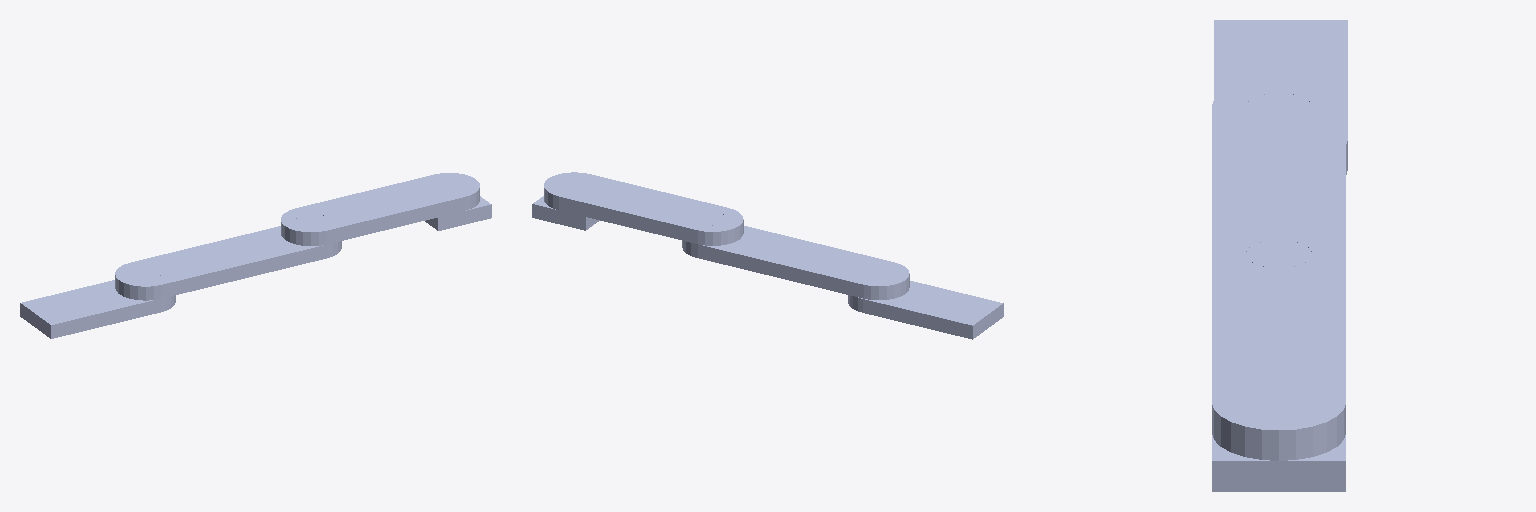
The robot description file, URDF, robot "urdf_ex":
<?xml version="1.0" encoding="utf-8"?>
<!-- This URDF was automatically created by SolidWorks to URDF Exporter! Originally created by [author] ([email redacted]) 
     Commit Version: 1.6.0-4-g7f85cfe  Build Version: 1.6.7995.38578
     For more information, please see http://wiki.ros.org/sw_urdf_exporter -->
<robot
  name="urdf_ex">
  <link
    name="base_link">
    <inertial>
      <origin
        xyz="-0.0307627616177958 0.000549238552584501 -0.00425853947056134"
        rpy="0 0 0" />
      <mass
        value="0.0423703289501895" />
      <inertia
        ixx="5.7445737473777E-06"
        ixy="5.7331555415411E-08"
        ixz="-9.66440659026013E-07"
        iyy="3.57525225953111E-05"
        iyz="1.72548380186777E-08"
        izz="4.02091930018452E-05" />
    </inertial>
    <visual>
      <origin
        xyz="0 0 0"
        rpy="0 0 0" />
      <geometry>
        <mesh
          filename="package://urdf_ex/meshes/base_link.STL" />
      </geometry>
      <material
        name="">
        <color
          rgba="0.792156862745098 0.819607843137255 0.933333333333333 1" />
      </material>
    </visual>
    <collision>
      <origin
        xyz="0 0 0"
        rpy="0 0 0" />
      <geometry>
        <mesh
          filename="package://urdf_ex/meshes/base_link.STL" />
      </geometry>
    </collision>
  </link>
  <link
    name="link1">
    <inertial>
      <origin
        xyz="0.0686137321462363 -4.33680868994202E-19 0.00550314814927754"
        rpy="0 0 0" />
      <mass
        value="0.0624387202477187" />
      <inertia
        ixx="8.72495874801279E-06"
        ixy="-3.79626509091789E-22"
        ixz="-1.76140121217567E-06"
        iyy="0.00012636124611967"
        iyz="1.16596805275555E-22"
        izz="0.000133448854730092" />
    </inertial>
    <visual>
      <origin
        xyz="0 0 0"
        rpy="0 0 0" />
      <geometry>
        <mesh
          filename="package://urdf_ex/meshes/link1.STL" />
      </geometry>
      <material
        name="">
        <color
          rgba="0.792156862745098 0.819607843137255 0.933333333333333 1" />
      </material>
    </visual>
    <collision>
      <origin
        xyz="0 0 0"
        rpy="0 0 0" />
      <geometry>
        <mesh
          filename="package://urdf_ex/meshes/link1.STL" />
      </geometry>
    </collision>
  </link>
  <joint
    name="joint1"
    type="continuous">
    <origin
      xyz="0 0 0"
      rpy="0 0 0" />
    <parent
      link="base_link" />
    <child
      link="link1" />
    <axis
      xyz="0 0 -1" />
  </joint>
  <link
    name="link2">
    <inertial>
      <origin
        xyz="0.0580112291549358 3.25260651745651E-19 0.00441983809309461"
        rpy="0 0 0" />
      <mass
        value="0.0541502745388295" />
      <inertia
        ixx="7.54834281403493E-06"
        ixy="-1.23878136683066E-22"
        ixz="1.44351566352889E-06"
        iyy="8.25281653332867E-05"
        iyz="1.61893646668828E-22"
        izz="8.85821376886491E-05" />
    </inertial>
    <visual>
      <origin
        xyz="0 0 0"
        rpy="0 0 0" />
      <geometry>
        <mesh
          filename="package://urdf_ex/meshes/link2.STL" />
      </geometry>
      <material
        name="">
        <color
          rgba="0.792156862745098 0.819607843137255 0.933333333333333 1" />
      </material>
    </visual>
    <collision>
      <origin
        xyz="0 0 0"
        rpy="0 0 0" />
      <geometry>
        <mesh
          filename="package://urdf_ex/meshes/link2.STL" />
      </geometry>
    </collision>
  </link>
  <joint
    name="joint2"
    type="continuous">
    <origin
      xyz="0.124680874083399 0 0.01"
      rpy="0 0 0" />
    <parent
      link="link1" />
    <child
      link="link2" />
    <axis
      xyz="0 0 -1" />
  </joint>
  <link
    name="ef_link">
    <inertial>
      <origin
        xyz="0 3.79470760369927E-18 -0.005"
        rpy="0 0 0" />
      <mass
        value="0.0128584073464102" />
      <inertia
        ixx="2.161946911547E-06"
        ixy="5.80499913184947E-23"
        ixz="7.53746385330028E-24"
        iyy="2.161946911547E-06"
        iyz="6.3048615084558E-23"
        izz="4.10958703398717E-06" />
    </inertial>
    <visual>
      <origin
        xyz="0 0 0"
        rpy="0 0 0" />
      <geometry>
        <mesh
          filename="package://urdf_ex/meshes/ef_link.STL" />
      </geometry>
      <material
        name="">
        <color
          rgba="0.792156862745098 0.819607843137255 0.933333333333333 1" />
      </material>
    </visual>
    <collision>
      <origin
        xyz="0 0 0"
        rpy="0 0 0" />
      <geometry>
        <mesh
          filename="package://urdf_ex/meshes/ef_link.STL" />
      </geometry>
    </collision>
  </link>
  <joint
    name="joint3"
    type="continuous">
    <origin
      xyz="0.103959759811176 0 0"
      rpy="0 0 0" />
    <parent
      link="link2" />
    <child
      link="ef_link" />
    <axis
      xyz="0 0 -1" />
  </joint>
</robot>

--- Render facts (derived) ---
Views: 3 orthographic renders of the robot side by side, from view 1: azimuth 30°, elevation 25°; view 2: azimuth 150°, elevation 25°; view 3: azimuth 270°, elevation 25°.
Robot: urdf_ex — 4 links, 3 joints (3 continuous); root link base_link; default pose: every joint at zero.
Links seen in each view (by area): view 1: link1, link2, base_link, ef_link; view 2: link1, link2, base_link, ef_link; view 3: link2, link1, base_link, ef_link.
Link boxes in pixels (left/top/right/bottom): link1: left=115, top=213, right=341, bottom=300; link2: left=281, top=173, right=479, bottom=245; base_link: left=20, top=267, right=175, bottom=338; ef_link: left=425, top=196, right=491, bottom=230; link1: left=682, top=213, right=909, bottom=299; link2: left=544, top=172, right=743, bottom=245; base_link: left=848, top=267, right=1003, bottom=339; ef_link: left=532, top=196, right=599, bottom=230; link2: left=1212, top=226, right=1345, bottom=460; link1: left=1212, top=79, right=1345, bottom=267; base_link: left=1214, top=20, right=1347, bottom=174; ef_link: left=1212, top=435, right=1345, bottom=491.
Bounding box of the posed robot: 0.331 × 0.0406 × 0.03 m (x, y, z).
4 mesh visuals loaded from 4 distinct referenced files (4 binary STL).